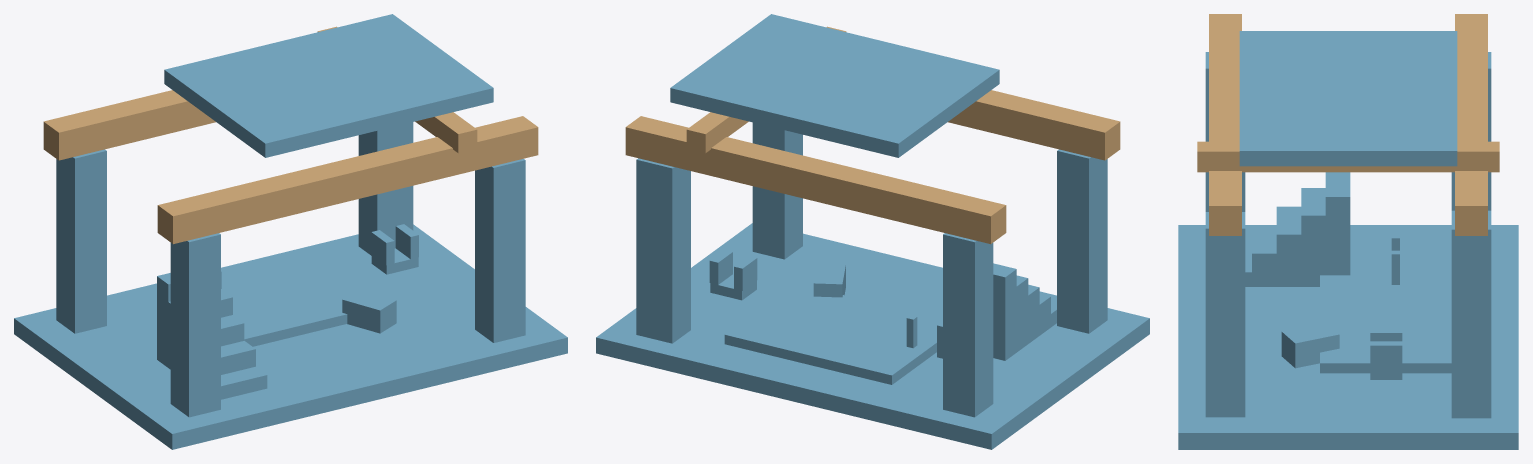
3 views of the same model, side by side, from view 1: azimuth 30°, elevation 25°; view 2: azimuth 150°, elevation 25°; view 3: azimuth 270°, elevation 25° (orthographic). The views are drawn at different scales.
Visible parts, largest first — view 1: Base, Laje, Viga principal A, Chapa de referência, Pilar 3, Pilar 2, Pilar 1, Viga principal B, Escada composta, Pilar 4, Conector com rebaixo, Apoio sem código (+1 smaller); view 2: Base, Laje, Viga principal B, Chapa de referência, Pilar 4, Pilar 1, Pilar 3, Viga principal A, Pilar 2, Escada composta, Conector com rebaixo, Viga secundária (+1 smaller); view 3: Base, Laje, Chapa de referência, Escada composta, Pilar 4, Pilar 2, Viga principal A, Viga principal B, Viga secundária, Apoio sem código, Conector com rebaixo, Pilar 1 (+1 smaller).
Boxes of the visible parts, left/top/right/bottom form: Base: left=14, top=224, right=567, bottom=449; Laje: left=164, top=14, right=493, bottom=157; Viga principal A: left=157, top=116, right=538, bottom=244; Chapa de referência: left=221, top=251, right=389, bottom=346; Pilar 3: left=56, top=149, right=106, bottom=333; Pilar 2: left=475, top=159, right=525, bottom=342; Pilar 1: left=170, top=233, right=220, bottom=417; Viga principal B: left=43, top=90, right=215, bottom=160; Escada composta: left=157, top=271, right=267, bottom=399; Pilar 4: left=358, top=122, right=413, bottom=255; Conector com rebaixo: left=371, top=224, right=418, bottom=274; Apoio sem código: left=342, top=289, right=396, bottom=333; Base: left=596, top=223, right=1149, bottom=449; Laje: left=670, top=14, right=999, bottom=157; Viga principal B: left=625, top=116, right=1006, bottom=244; Chapa de referência: left=724, top=283, right=942, bottom=384; Pilar 4: left=636, top=158, right=690, bottom=343; Pilar 1: left=1057, top=149, right=1107, bottom=333; Pilar 3: left=943, top=233, right=993, bottom=417; Viga principal A: left=948, top=90, right=1120, bottom=160; Pilar 2: left=752, top=122, right=802, bottom=259; Escada composta: left=993, top=263, right=1056, bottom=360; Conector com rebaixo: left=709, top=250, right=757, bottom=300; Viga secundária: left=686, top=26, right=846, bottom=153; Base: left=1178, top=225, right=1518, bottom=449; Laje: left=1239, top=31, right=1457, bottom=166; Chapa de referência: left=1320, top=275, right=1451, bottom=373; Escada composta: left=1245, top=172, right=1350, bottom=286; Pilar 4: left=1451, top=210, right=1491, bottom=418; Pilar 2: left=1205, top=212, right=1245, bottom=417; Viga principal A: left=1209, top=14, right=1241, bottom=235; Viga principal B: left=1455, top=14, right=1487, bottom=235; Viga secundária: left=1197, top=141, right=1499, bottom=172; Apoio sem código: left=1281, top=322, right=1339, bottom=368; Conector com rebaixo: left=1370, top=328, right=1402, bottom=379; Pilar 1: left=1205, top=52, right=1245, bottom=211.
Bounding box in the file's own units: 0.52 × 0.321 × 0.36.
